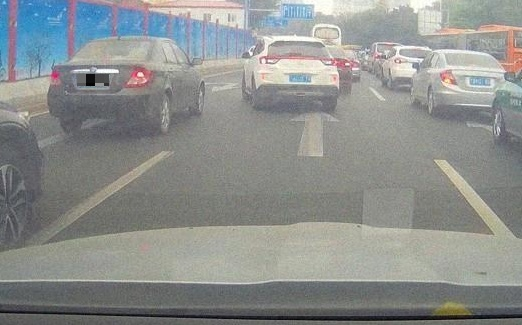L_light: (49, 68, 62, 86), (260, 56, 280, 64)
R_light: (125, 68, 153, 87), (320, 57, 338, 66)
T_light: (287, 55, 311, 59), (111, 40, 126, 44)
day-brake: (47, 36, 155, 134), (259, 36, 340, 111)
plate_1: (77, 74, 109, 86)
